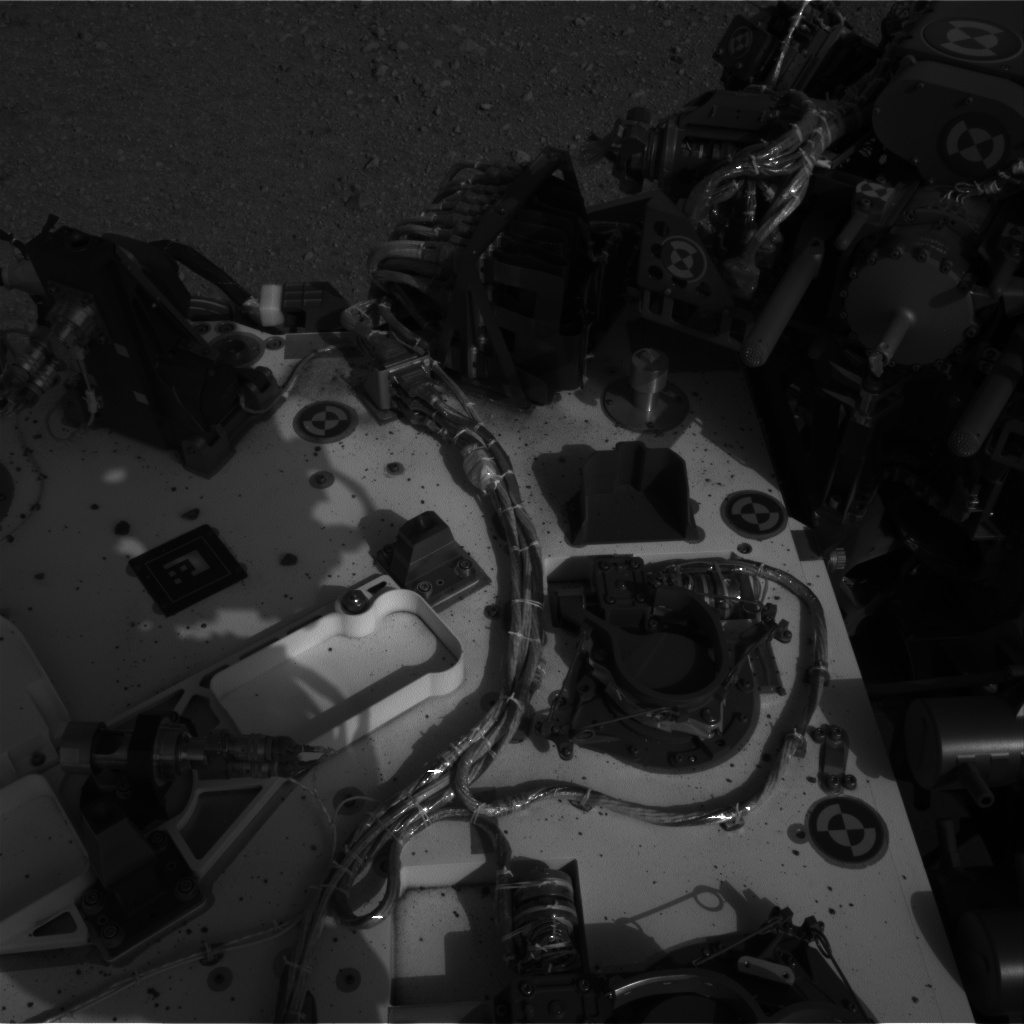soil: (4, 4, 668, 208)
